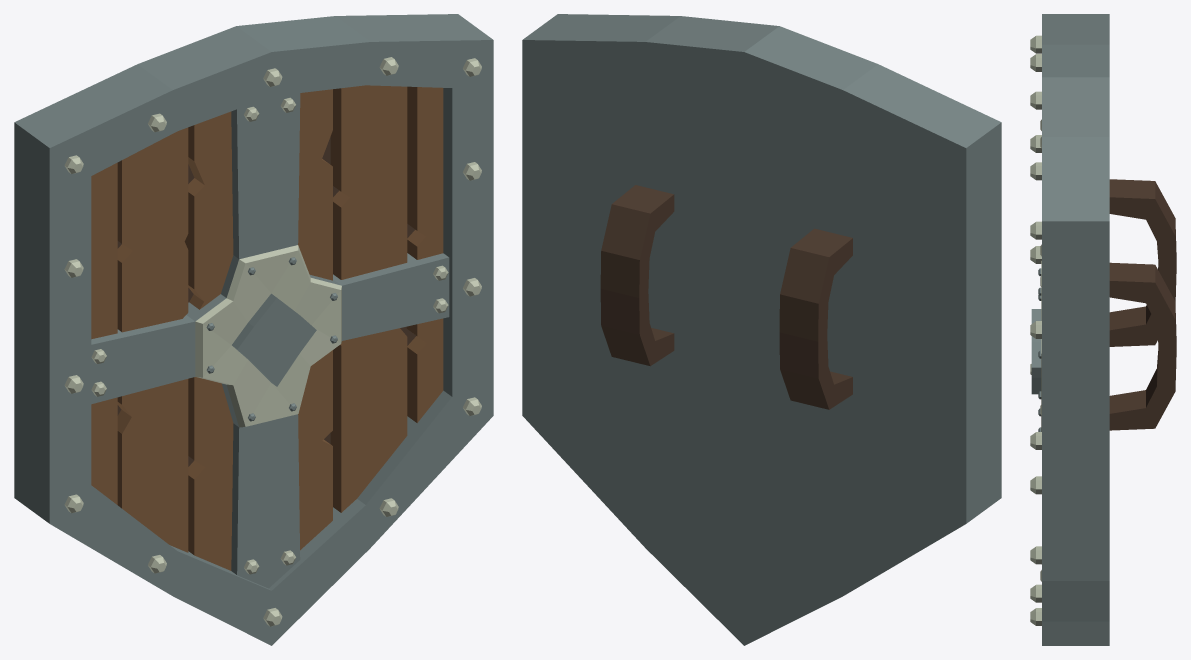
Rendered from shield-heater.glb.
3 views of the same model, side by side, from view 1: azimuth 30°, elevation 25°; view 2: azimuth 150°, elevation 25°; view 3: azimuth 270°, elevation 25° (orthographic). The views are drawn at different scales.
Parts seen in each view (by area): view 1: shield-heater runtime mesh; view 2: shield-heater runtime mesh; view 3: shield-heater runtime mesh.
Boxes of the visible parts, x1,y1,x2,y2 form: shield-heater runtime mesh: [14, 14, 493, 645]; shield-heater runtime mesh: [522, 14, 1001, 645]; shield-heater runtime mesh: [1030, 14, 1176, 645].
Size of the model in its own units: 0.6569 by 0.84 by 0.1956.
